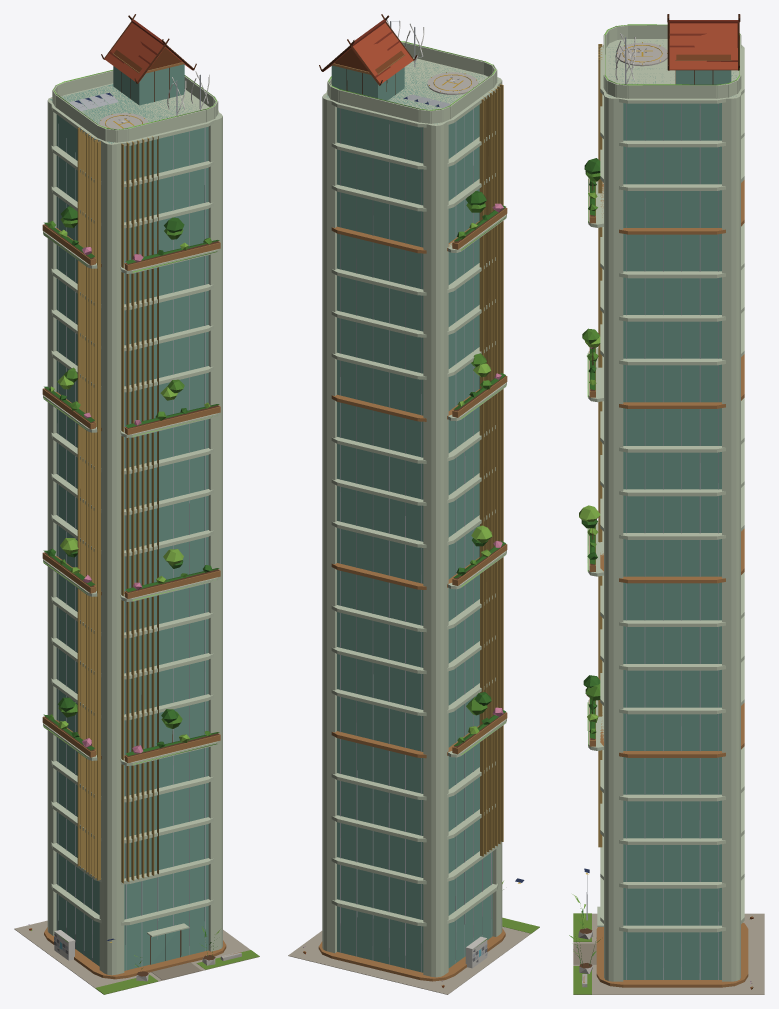
Rendered from shop_4.glb.
3 renders of one model, left to right at view 1: azimuth 30°, elevation 25°; view 2: azimuth 150°, elevation 25°; view 3: azimuth 270°, elevation 25°, orthographic. The views are drawn at different scales.
Parts seen in each view (by area): view 1: body, windows; view 2: body, windows; view 3: body, windows.
Boxes of the visible parts, bbox=[...] form: body: bbox=[14, 14, 259, 994]; windows: bbox=[43, 70, 217, 949]; body: bbox=[288, 14, 539, 994]; windows: bbox=[328, 41, 520, 956]; body: bbox=[569, 14, 764, 994]; windows: bbox=[586, 24, 740, 874].
Bounding box in the file's own units: 15.91 × 87.73 × 16.3.
